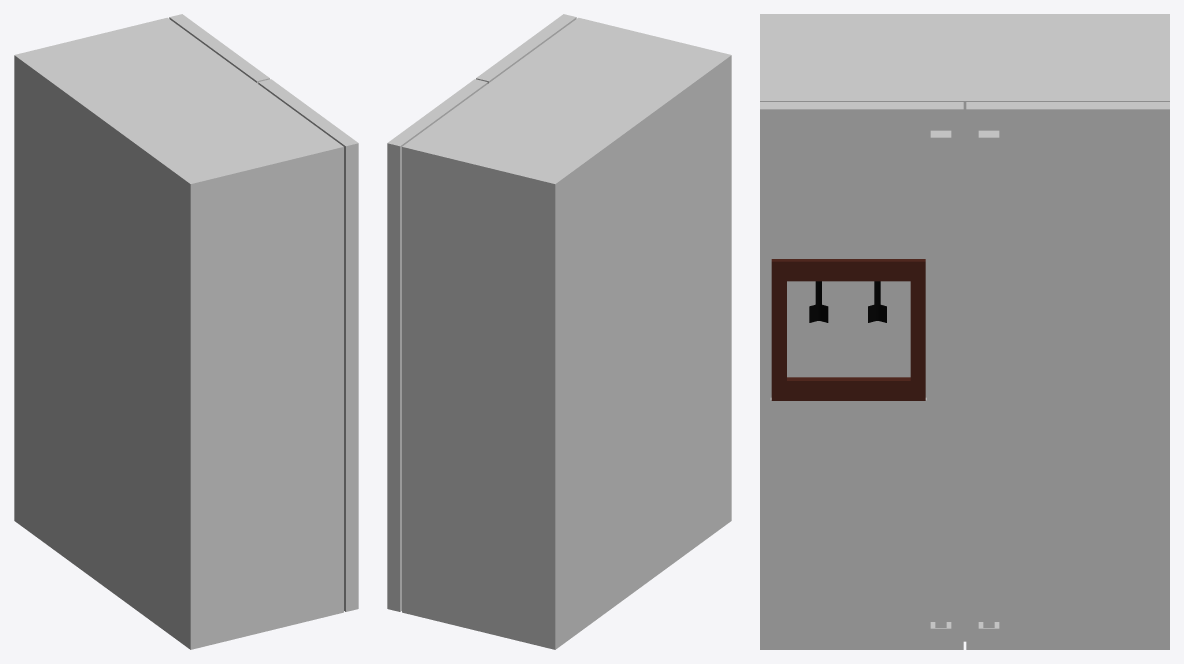
Rendered from Refrigerator.glb.
The picture shows the model from 3 angles, left to right: view 1: azimuth 30°, elevation 25°; view 2: azimuth 150°, elevation 25°; view 3: azimuth 270°, elevation 25°; orthographic projection. The views are drawn at different scales.
Parts seen in each view (by area): view 1: Fridge; view 2: Fridge; view 3: Fridge.
Boxes of the visible parts, bbox=[...] form: Fridge: bbox=[14, 14, 358, 649]; Fridge: bbox=[387, 14, 731, 649]; Fridge: bbox=[760, 14, 1169, 649].
Bounding box in the file's own units: 0.637 × 1.57 × 1.08.
